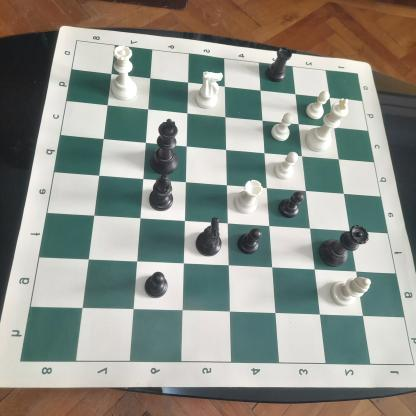black-bishop: (147, 173, 176, 212)
black-king: (147, 116, 181, 175)
black-knight: (193, 216, 226, 258)
black-pawn: (277, 188, 305, 221), (142, 270, 170, 299), (237, 224, 263, 254)
black-queen: (318, 221, 371, 268)
black-rook: (264, 44, 294, 84)
white-bishop: (328, 272, 374, 308)
white-king: (305, 98, 352, 152)
white-knight: (193, 70, 225, 108)
white-pawn: (304, 90, 332, 121), (272, 150, 300, 181), (268, 112, 296, 142)
white-queen: (109, 43, 138, 101)
white-rook: (231, 178, 264, 216)
